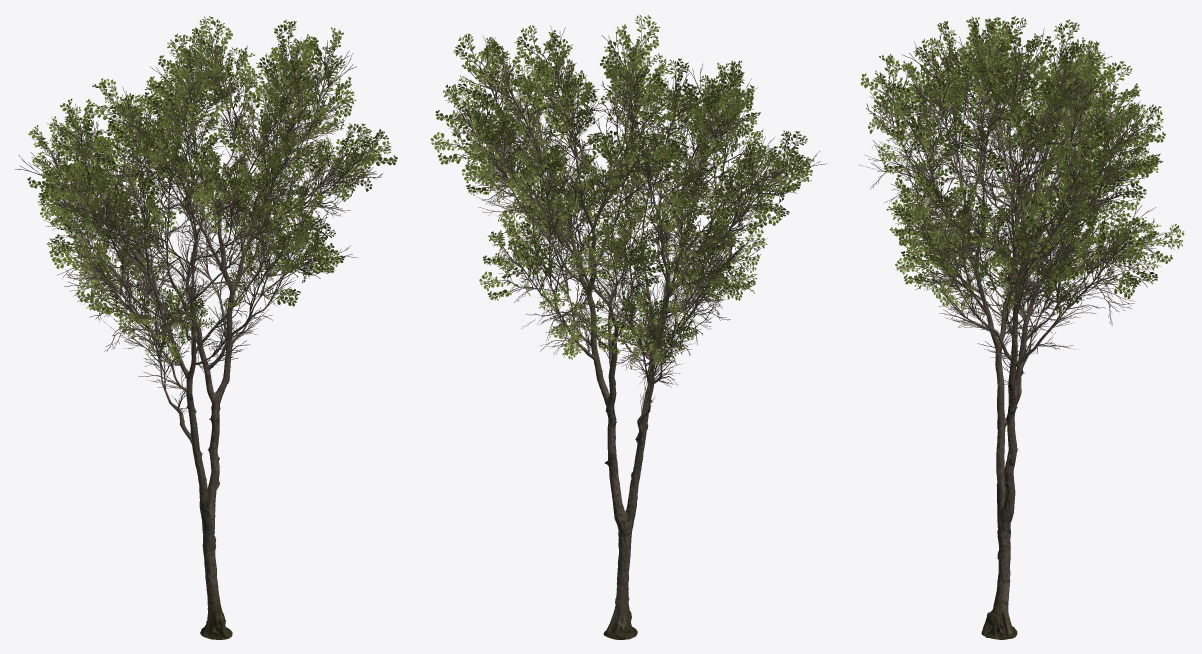
Rendered from SM_BlackAlder_Forest_04_PP_LOD1.gltf.
3 views of the same model, side by side, from view 1: azimuth 30°, elevation 25°; view 2: azimuth 150°, elevation 25°; view 3: azimuth 270°, elevation 25° (orthographic). The views are drawn at different scales.
Visible parts, largest first — view 1: SM_BlackAlder_Forest_04_PP; view 2: SM_BlackAlder_Forest_04_PP; view 3: SM_BlackAlder_Forest_04_PP.
Part boxes in pixels (x1,y1,x2,y2): SM_BlackAlder_Forest_04_PP: (15, 16, 397, 639); SM_BlackAlder_Forest_04_PP: (430, 15, 826, 639); SM_BlackAlder_Forest_04_PP: (860, 16, 1184, 639).
Bounding box in the file's own units: 7.06 × 11.76 × 5.81.
4 materials, 4 textured.
